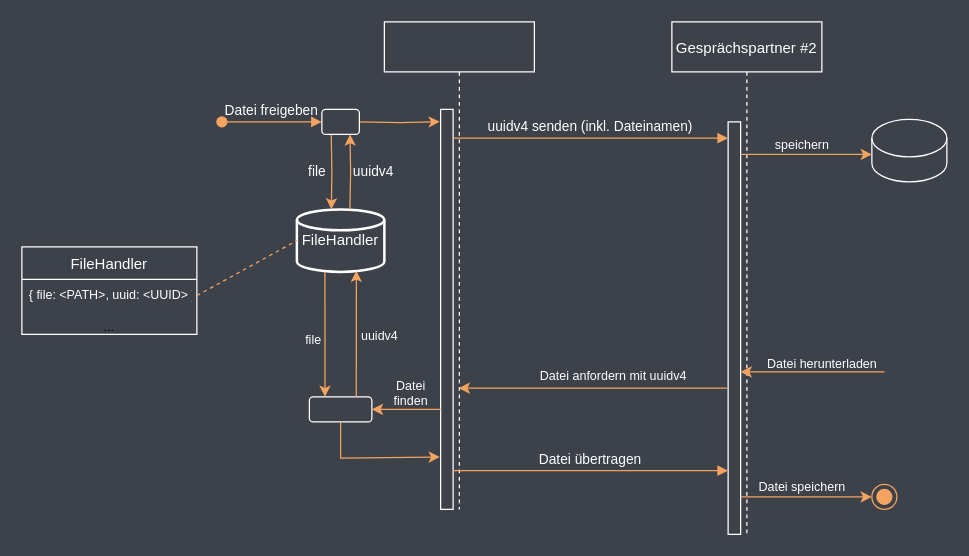
Image size: 969x556. Some labels were removed from this diagram. Here are the shapes that lost their labels. From the top down, the box of each, then its label:
(871, 118, 947, 182): Chat
(383, 21, 534, 509): Gesprächspartner #1
